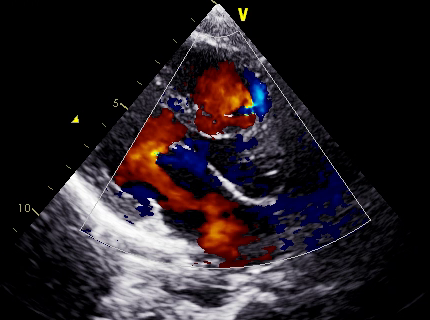AR: (152, 114, 209, 171)
